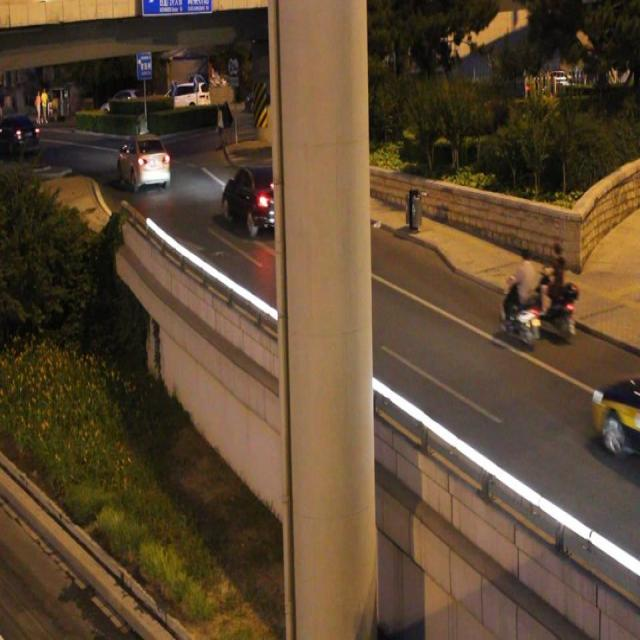car: (222, 160, 293, 237), (592, 364, 640, 466)
